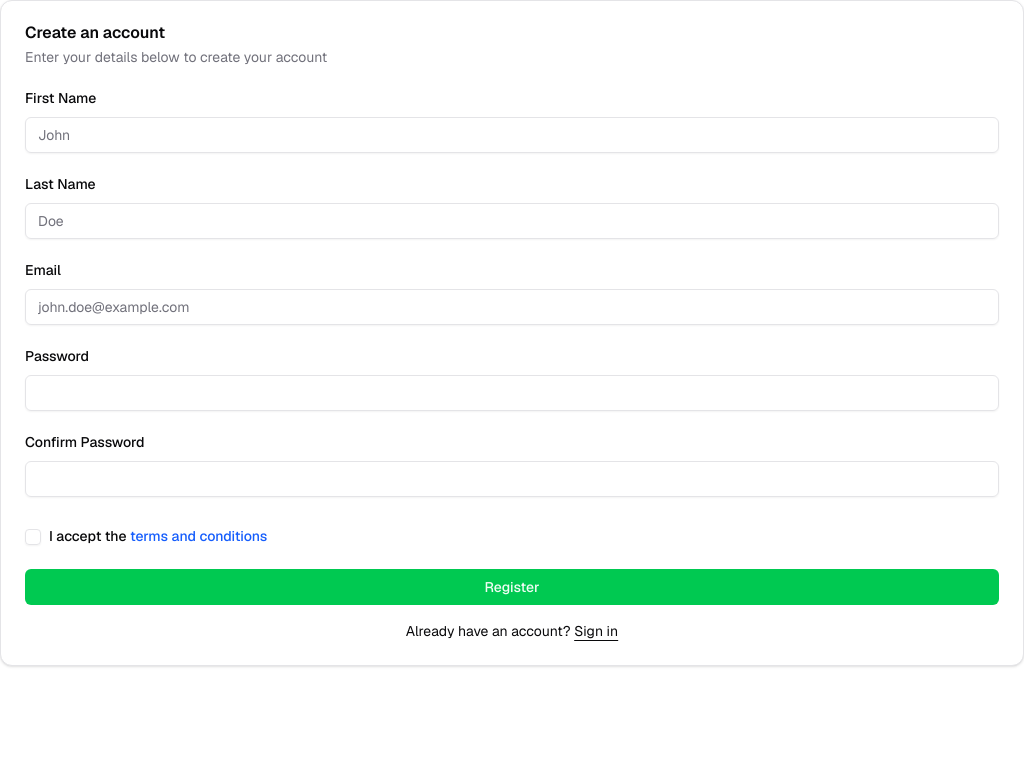
Scenario: RegisterForm › shows validation errors for all fields on empty submission
Click the button "Register" at [512, 587], box x1=25 y1=569 x2=999 y2=605
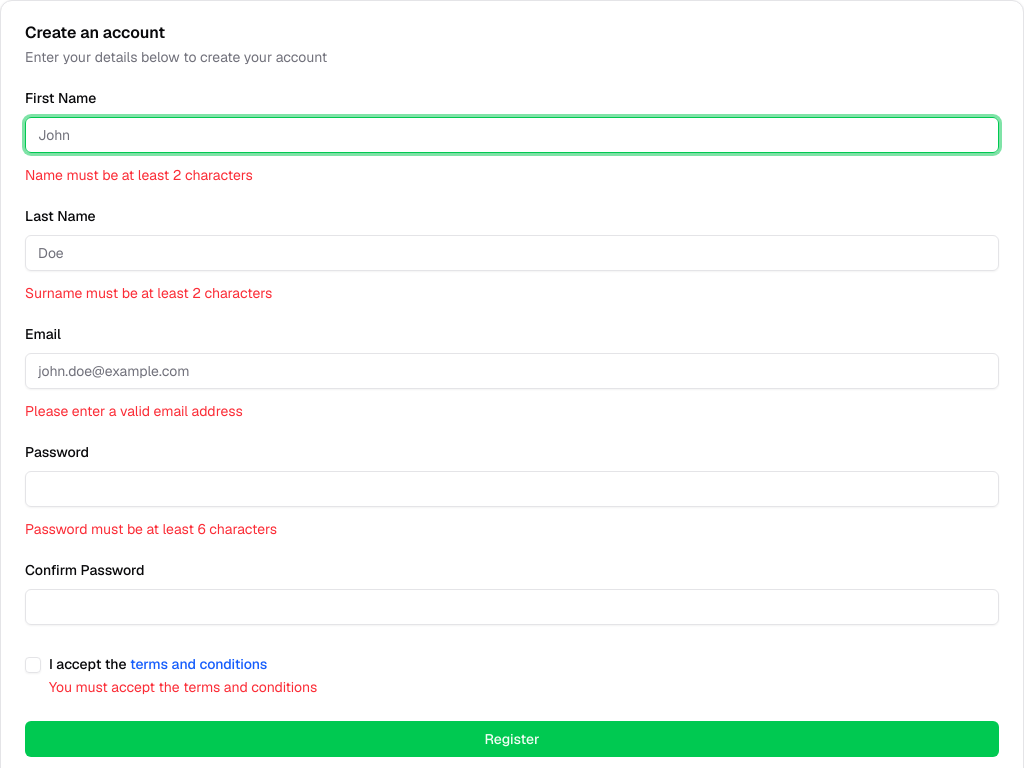
Expected: the text "Name must be at least 2 characters" is shown, x1=25 y1=166 x2=253 y2=184
Expected: the text "Surname must be at least 2 characters" is shown, x1=25 y1=284 x2=272 y2=302
Expected: the text "Please enter a valid email address" is shown, x1=25 y1=402 x2=243 y2=420
